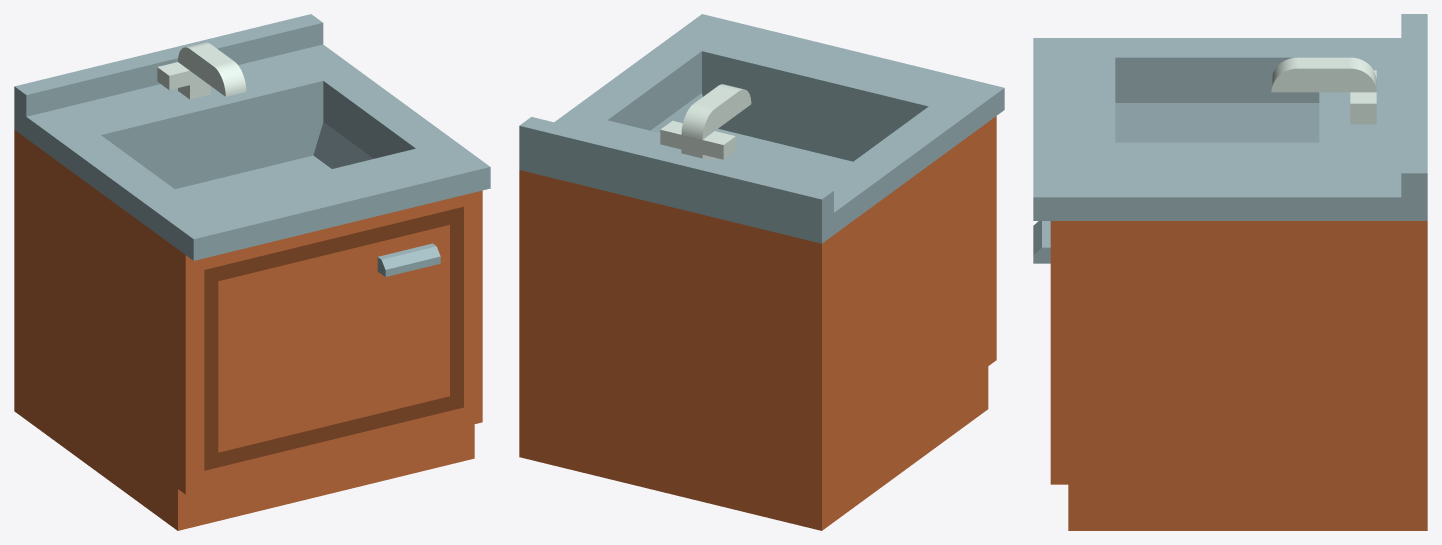
File: kitchenSink.glb
The picture shows the model from 3 angles, left to right: view 1: azimuth 30°, elevation 25°; view 2: azimuth 150°, elevation 25°; view 3: azimuth 270°, elevation 25°; orthographic projection. The views are drawn at different scales.
Visible parts, largest first — view 1: kitchenSink(Clone), door; view 2: kitchenSink(Clone); view 3: kitchenSink(Clone), door.
Part boxes in pixels (<box>): kitchenSink(Clone): <box>14,14,490,530</box>; door: <box>204,206,463,470</box>; kitchenSink(Clone): <box>519,14,1004,530</box>; kitchenSink(Clone): <box>1033,14,1427,530</box>; door: <box>1033,221,1050,263</box>.
Size of the model in its own units: 0.43 by 0.49 by 0.45.
6 materials, 6 textured.
